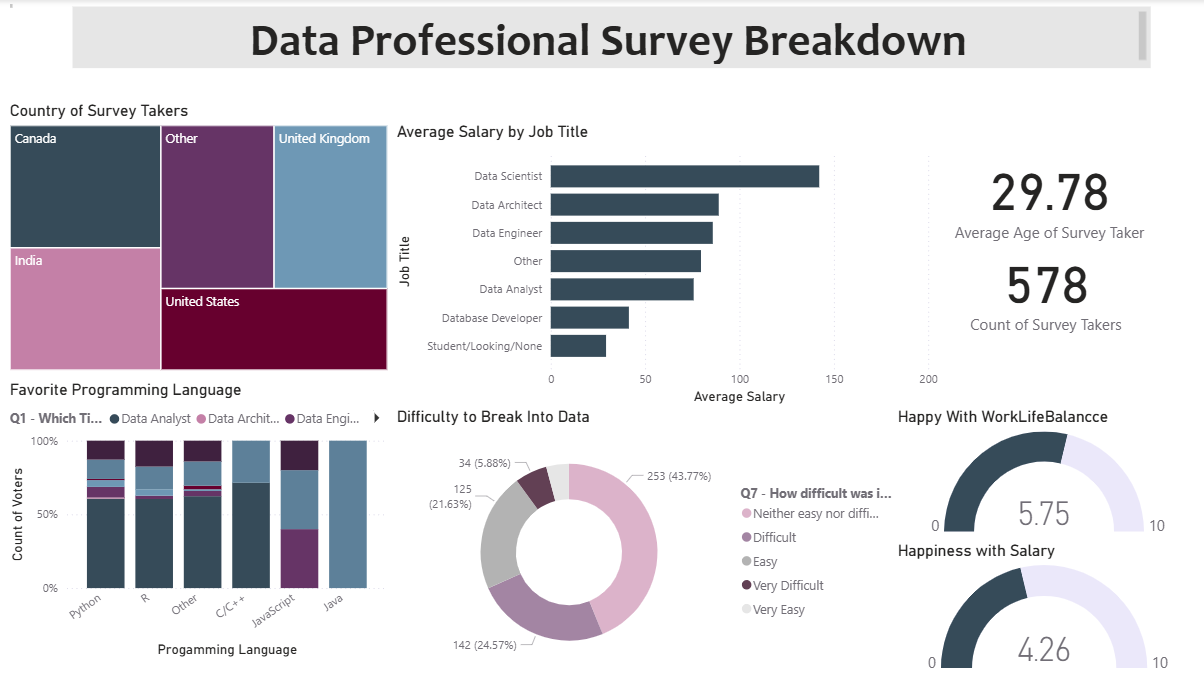

What the dashboard file says about the page in this screenshot:
{"tool":"powerbi","page":{"name":"Data Survey Dashboard","canvas":[1280,720],"ordinal":0},"visuals":[{"type":"textbox","box":[9.5,0,12.7,14.3],"z":0},{"type":"textbox","box":[81.7,8.3,1143.3,65],"z":1000},{"type":"card","fields":{"Values":["CountNonNull(Data Professional Survey.Unique ID)"]},"box":[1000,253.3,225,106.7],"z":2000},{"type":"card","fields":{"Values":["Avg(Data Professional Survey.Q10 - Current Age)"]},"box":[1005,148.3,223.3,120],"z":3000},{"type":"clusteredBarChart","title":"Average Salary by Job Title","fields":{"Category":["Data Professional Survey.Q1 - Which Title Best Fits your Current Role?.1"],"Y":["Avg(Data Professional Survey.Average Salary)"]},"box":[420,130,583.3,303.3],"z":4000},{"type":"hundredPercentStackedColumnChart","title":"Favorite Programming Language","fields":{"Category":["Data Professional Survey.Q5 - Favorite Programming Language.1"],"Y":["CountNonNull(Data Professional Survey.Unique ID)"],"Series":["Data Professional Survey.Q1 - Which Title Best Fits your Current Role?.1"]},"box":[10,403.3,410,298.3],"z":5000},{"type":"treemap","title":"Country of Survey Takers","fields":{"Values":["Count(Data Professional Survey.Q11 - Which Country do you live in?.1)"],"Group":["Data Professional Survey.Q11 - Which Country do you live in?.1"]},"box":[10,108.3,410,290],"z":7000},{"type":"gauge","title":"Happiness with Salary","fields":{"Y":["Avg(Data Professional Survey.Q6 - How Happy are you in your Current Position with the following? (Salary))"],"MinValue":["Min(Data Professional Survey.Q6 - How Happy are you in your Current Position with the following? (Salary))"],"MaxValue":["Max(Data Professional Survey.Q6 - How Happy are you in your Current Position with the following? (Salary))"]},"box":[951.7,575,328.3,145],"z":8000},{"type":"gauge","title":"Happy With WorkLifeBalancce","fields":{"Y":["Avg(Data Professional Survey.Q6 - How Happy are you in your Current Position with the following? (Work/Life Balance))"],"MaxValue":["Max(Data Professional Survey.Q6 - How Happy are you in your Current Position with the following? (Work/Life Balance))"],"MinValue":["Min(Data Professional Survey.Q6 - How Happy are you in your Current Position with the following? (Work/Life Balance))1"]},"box":[951.7,433.3,328.3,141.7],"z":9000},{"type":"donutChart","title":"Difficulty to Break Into Data","fields":{"Category":["Data Professional Survey.Q7 - How difficult was it for you to break into Data?"],"Y":["CountNonNull(Data Professional Survey.Q7 - How difficult was it for you to break into Data?)"]},"box":[420,433.3,531.7,286.7],"z":9001}]}

Visuals, with their boxes in screenshot pixels (x1, y1, x2, y2), scaled from the page's 1280x720 canvas onto the 1204x676 screenshot:
textbox: {"x1": 9, "y1": 0, "x2": 21, "y2": 13}
textbox: {"x1": 77, "y1": 8, "x2": 1152, "y2": 69}
card - CountNonNull(Data Professional Survey.Unique ID): {"x1": 941, "y1": 238, "x2": 1152, "y2": 338}
card - Avg(Data Professional Survey.Q10 - Current Age): {"x1": 945, "y1": 139, "x2": 1155, "y2": 252}
"Average Salary by Job Title" clusteredBarChart: {"x1": 395, "y1": 122, "x2": 944, "y2": 407}
"Favorite Programming Language" hundredPercentStackedColumnChart: {"x1": 9, "y1": 379, "x2": 395, "y2": 659}
"Country of Survey Takers" treemap: {"x1": 9, "y1": 102, "x2": 395, "y2": 374}
"Happiness with Salary" gauge: {"x1": 895, "y1": 540, "x2": 1203, "y2": 675}
"Happy With WorkLifeBalancce" gauge: {"x1": 895, "y1": 407, "x2": 1203, "y2": 540}
"Difficulty to Break Into Data" donutChart: {"x1": 395, "y1": 407, "x2": 895, "y2": 675}
